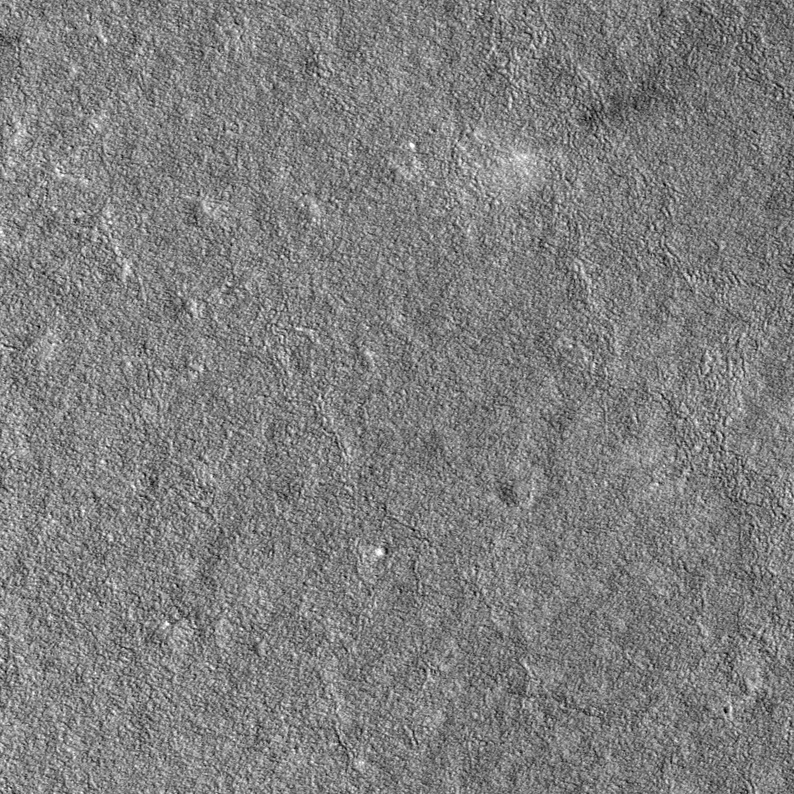dust_devil: (483, 74, 683, 199)
